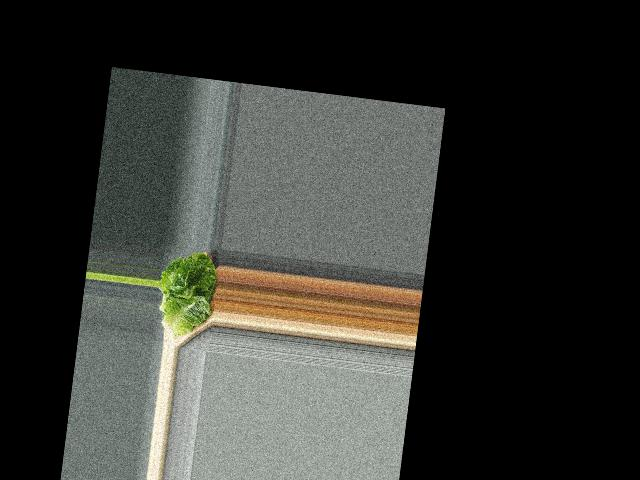lettuce: (153, 245, 222, 339)
